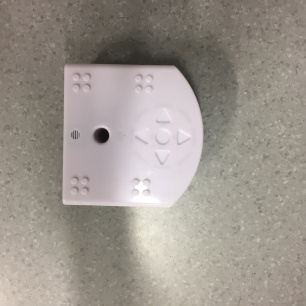thymio: (56, 54, 208, 215)
